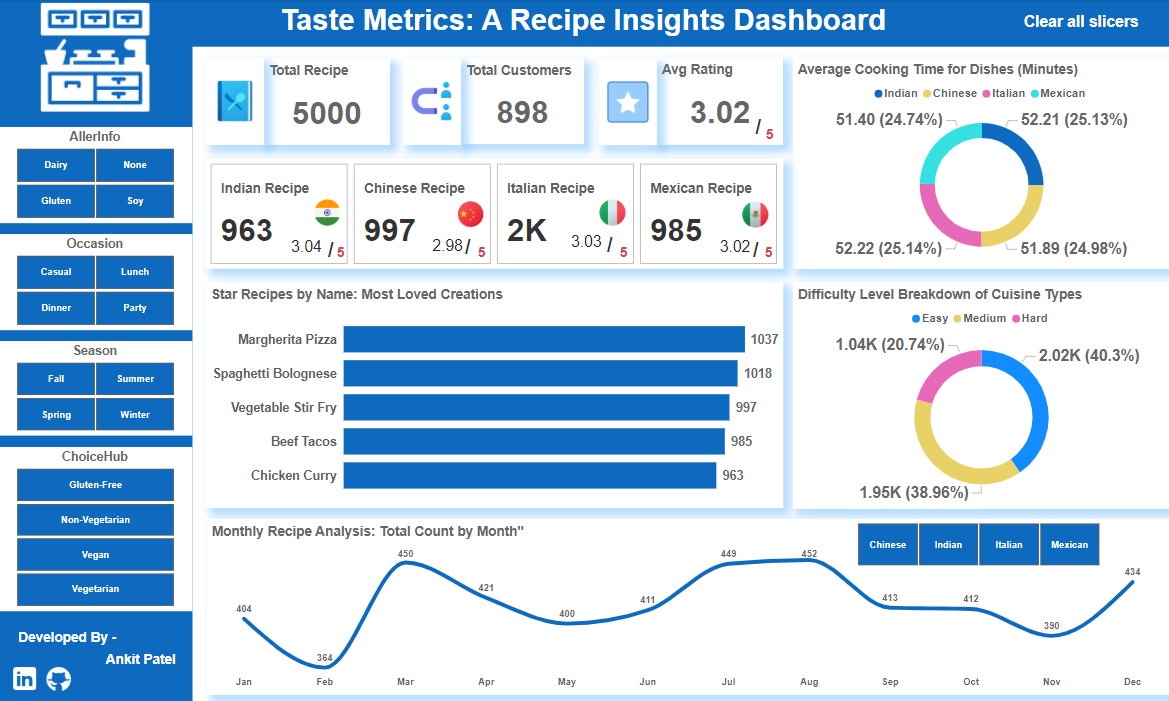

The page's visual inventory and layout, read from the dashboard file:
{"tool":"powerbi","page":{"name":"Page 1","canvas":[1500,900],"ordinal":0},"visuals":[{"type":"shape","box":[0,0,1500,61.4],"z":0},{"type":"actionButton","title":"Taste Metrics: A Recipe Insights Dashboard","box":[0,5.1,1500,47.3],"z":1000},{"type":"shape","box":[0,0,250.3,900.6],"z":2000},{"type":"slicer","title":"AllerInfo","fields":{"Values":["recipe_data.Allergen_Information"]},"box":[0,163.1,250,122.6],"z":3000},{"type":"slicer","title":"Occasion","fields":{"Values":["recipe_data.Occasion"]},"box":[0,300,250,122.6],"z":4000},{"type":"slicer","title":"Season","fields":{"Values":["recipe_data.Season"]},"box":[0,436.9,250,121.4],"z":5000},{"type":"slicer","title":"ChoiceHub","fields":{"Values":["recipe_data.User_Preferences"]},"box":[0,572.6,250,209.5],"z":6000},{"type":"actionButton","title":"Developed By -","box":[21.4,806,135.7,27.4],"z":7000},{"type":"actionButton","title":"Ankit Patel","box":[125,833.3,116.7,25],"z":8000},{"type":"image","box":[0,846.4,70.2,45.2],"z":9000},{"type":"image","box":[50,847.6,57.1,44],"z":10000},{"type":"image","box":[0,0,250,148.8],"z":11000},{"type":"card","title":"Total Recipe","fields":{"Values":["Measures Table.Total Recipe"]},"box":[341.7,75,160.7,110.7],"z":12000},{"type":"card","title":"Total Customers","fields":{"Values":["Measures Table.Total Customers"]},"box":[593.4,75.4,157.3,110],"z":13000},{"type":"card","title":"Avg Rating","fields":{"Values":["Avg(recipe_data.User_Rating)"]},"box":[843.9,73.5,161.3,112.3],"z":14000},{"type":"image","box":[267.9,75,73.8,110.7],"z":15000},{"type":"image","box":[519,75,73.8,110.7],"z":16000},{"type":"image","box":[769.8,76.7,74.2,110],"z":17000},{"type":"actionButton","title":"5","box":[970.3,162.6,34.8,23.2],"z":18000},{"type":"actionButton","title":"/","box":[958.7,148.4,28.4,33.5],"z":19000},{"type":"cardVisual","fields":{"Data":["Measures Table.Total Indian Recipe","Measures Table.Total Chinese Recipe","Measures Table.Total Italian Recipe","Measures Table.Total Mexican Recipe"]},"box":[267.3,204.6,737.9,140.5],"z":20000},{"type":"card","fields":{"Values":["Measures Table.Avg Chinese Rating"]},"box":[565.2,300.5,57.5,34.5],"z":21000},{"type":"card","fields":{"Values":["Measures Table.Avg Indian Rating"]},"box":[369.3,300.3,79.7,35.2],"z":22000},{"type":"card","fields":{"Values":["Measures Table.Avg Italian Rating"]},"box":[729.3,300.3,95,38.3],"z":23000},{"type":"card","fields":{"Values":["Measures Table.Avg Mexican Rating"]},"box":[925.4,303.4,65.9,30.6],"z":24000},{"type":"card","fields":{"Values":["Measures Table.Avg Chinese cooking Time"]},"box":[1214.8,631.7,12.8,150.9],"z":25000},{"type":"image","box":[396.4,248.1,52.4,49.9],"z":26000},{"type":"image","box":[574.2,250.6,62.7,48.6],"z":27000},{"type":"image","box":[760.9,248.1,52.4,49.9],"z":28000},{"type":"image","box":[943.7,250.6,52.4,49.9],"z":29000},{"type":"donutChart","title":"Average Cooking Time for Dishes (Minutes)","fields":{"Y":["Measures Table.Avg Indian cooking Time","Measures Table.Avg Chinese cooking Time","Measures Table.Avg Italian cooking Time","Measures Table.Avg Mexican cooking Time"]},"box":[1017.6,74.1,482.4,270.7],"z":30000},{"type":"barChart","title":"Star Recipes by Name: Most Loved Creations","fields":{"Category":["recipe_data.Recipe_Name"],"Y":["Measures Table.Total Recipe"]},"box":[267.6,361.4,737.9,288.8],"z":31000},{"type":"donutChart","title":"Difficulty Level Breakdown of Cuisine Types","fields":{"Category":["recipe_data.Difficulty_Level"],"Y":["CountNonNull(recipe_data.Cuisine_Type)"]},"box":[1017.9,361.5,482.1,289.7],"z":32000},{"type":"lineChart","title":"Monthly Recipe Analysis: Total Count by Month\"","fields":{"Category":["recipe_data.Month"],"Y":["Measures Table.Total Recipe"]},"box":[269.2,665.3,1230.8,225.3],"z":33000},{"type":"slicer","fields":{"Values":["recipe_data.Cuisine_Type"]},"box":[1075.4,665,358.1,66.5],"z":34000},{"type":"actionButton","box":[1286.8,4.5,199.6,49.9],"z":34001}]}

Visuals, with their boxes in screenshot pixels (x1, y1, x2, y2), scaled from the page's 1500x900 canvas onto the 1169x701 screenshot:
shape: box(0, 0, 1168, 48)
"Taste Metrics: A Recipe Insights Dashboard" actionButton: box(0, 4, 1168, 41)
shape: box(0, 0, 195, 700)
"AllerInfo" slicer: box(0, 127, 195, 223)
"Occasion" slicer: box(0, 234, 195, 329)
"Season" slicer: box(0, 340, 195, 435)
"ChoiceHub" slicer: box(0, 446, 195, 609)
"Developed By -" actionButton: box(17, 628, 122, 649)
"Ankit Patel" actionButton: box(97, 649, 188, 669)
image: box(0, 659, 55, 694)
image: box(39, 660, 83, 694)
image: box(0, 0, 195, 116)
"Total Recipe" card: box(266, 58, 392, 145)
"Total Customers" card: box(462, 59, 585, 144)
"Avg Rating" card: box(658, 57, 783, 145)
image: box(209, 58, 266, 145)
image: box(404, 58, 462, 145)
image: box(600, 60, 658, 145)
"5" actionButton: box(756, 127, 783, 145)
"/" actionButton: box(747, 116, 769, 142)
cardVisual - Measures Table.Total Indian Recipe x Measures Table.Total Chinese Recipe: box(208, 159, 783, 269)
card - Measures Table.Avg Chinese Rating: box(440, 234, 485, 261)
card - Measures Table.Avg Indian Rating: box(288, 234, 350, 261)
card - Measures Table.Avg Italian Rating: box(568, 234, 642, 264)
card - Measures Table.Avg Mexican Rating: box(721, 236, 773, 260)
card - Measures Table.Avg Chinese cooking Time: box(947, 492, 957, 610)
image: box(309, 193, 350, 232)
image: box(447, 195, 496, 233)
image: box(593, 193, 634, 232)
image: box(735, 195, 776, 234)
"Average Cooking Time for Dishes (Minutes)" donutChart: box(793, 58, 1168, 269)
"Star Recipes by Name: Most Loved Creations" barChart: box(209, 281, 784, 506)
"Difficulty Level Breakdown of Cuisine Types" donutChart: box(793, 282, 1168, 507)
"Monthly Recipe Analysis: Total Count by Month"" lineChart: box(210, 518, 1168, 694)
slicer - recipe_data.Cuisine_Type: box(838, 518, 1117, 570)
actionButton: box(1003, 4, 1158, 42)
